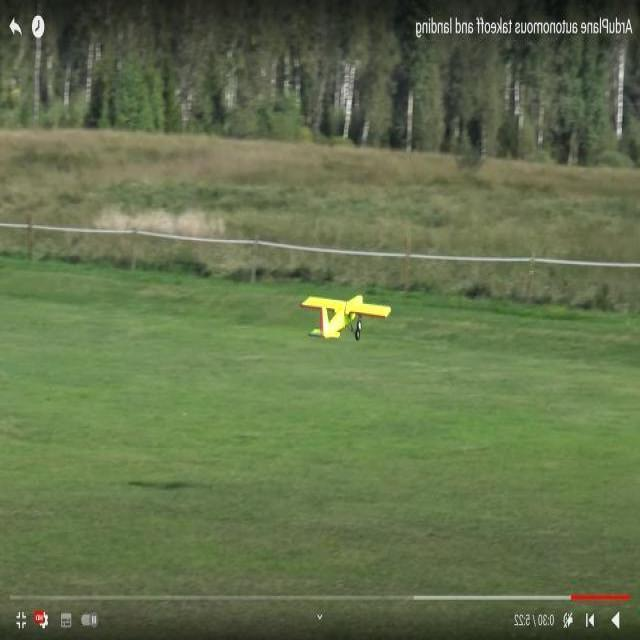iha: (253, 308, 400, 324)
